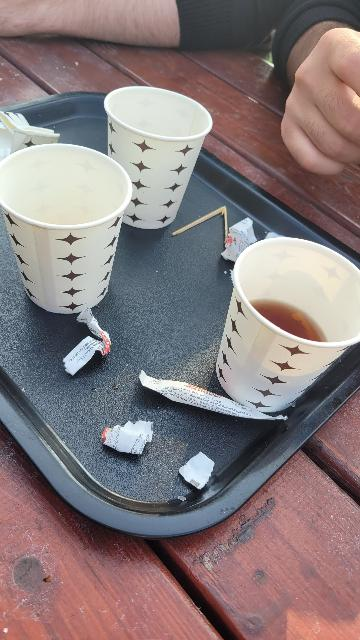Kagit: (214, 231, 360, 418), (0, 140, 133, 315), (105, 83, 212, 231), (133, 369, 288, 426)
